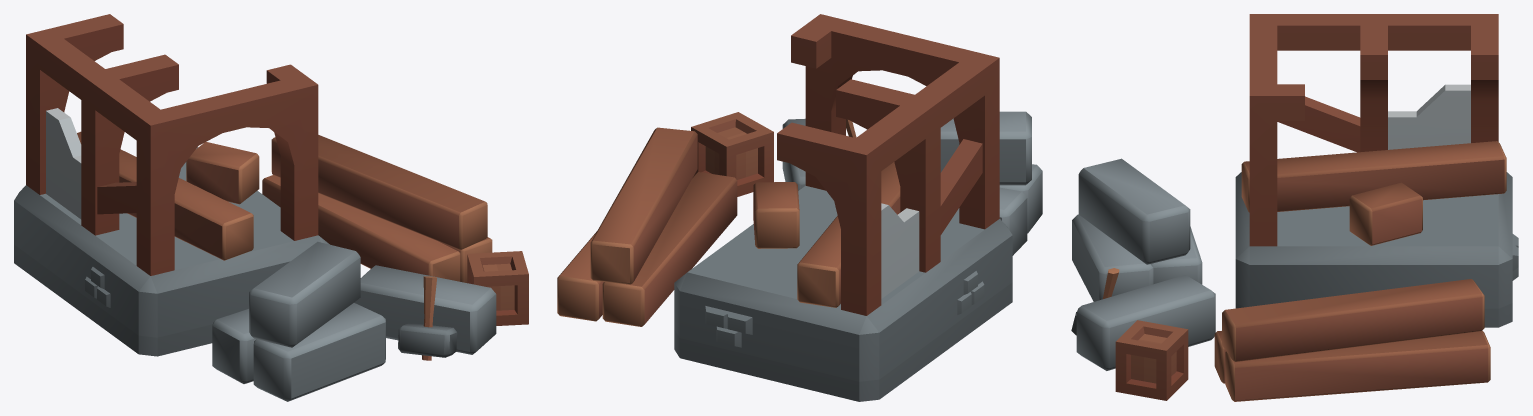
Rendered from H_stage_B.glb.
The picture shows the model from 3 angles, left to right: view 1: azimuth 30°, elevation 25°; view 2: azimuth 150°, elevation 25°; view 3: azimuth 270°, elevation 25°; orthographic projection. The views are drawn at different scales.
Visible parts, largest first — view 1: building_stage_B; view 2: building_stage_B; view 3: building_stage_B.
Part boxes in pixels (bbox=[...]): building_stage_B: bbox=[14, 14, 528, 401]; building_stage_B: bbox=[557, 14, 1042, 401]; building_stage_B: bbox=[1071, 14, 1518, 401].
Bounding box in the file's own units: 1.02 × 0.6359 × 1.13.
